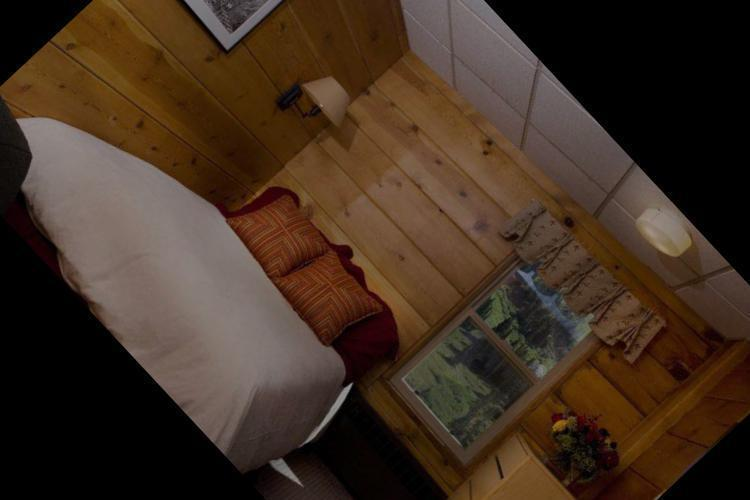Armario: (445, 437, 584, 500)
